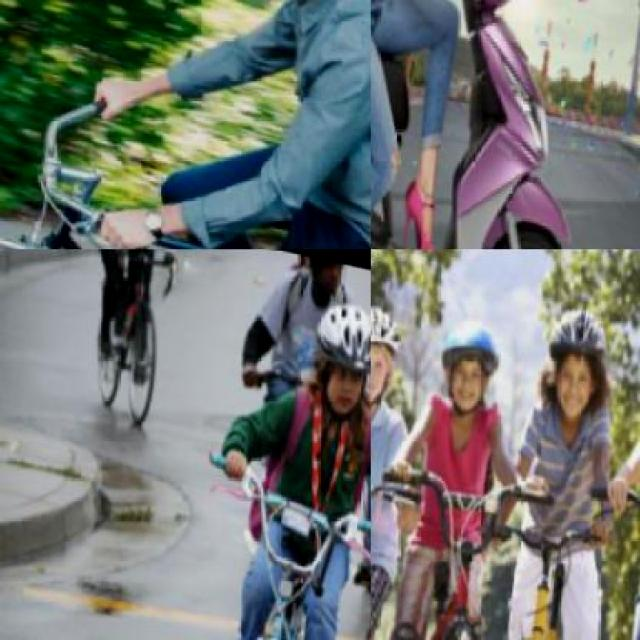With Helmet: (534, 282, 618, 422), (294, 277, 369, 417), (431, 304, 506, 414), (370, 288, 408, 412)
